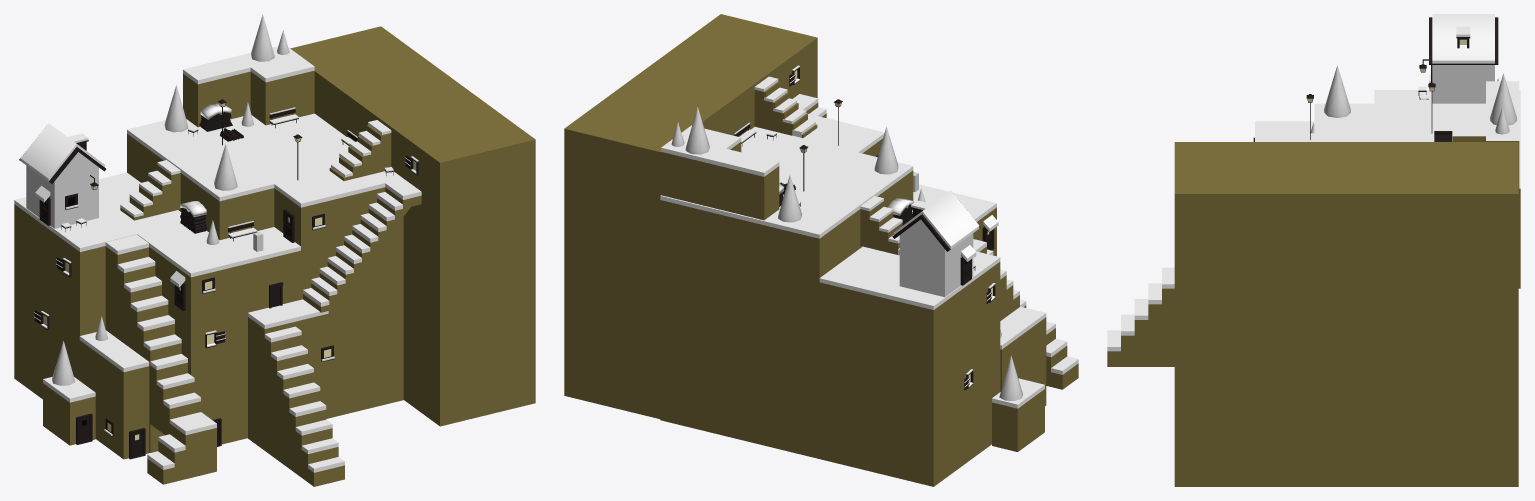
The picture shows the model from 3 angles, left to right: view 1: azimuth 30°, elevation 25°; view 2: azimuth 150°, elevation 25°; view 3: azimuth 270°, elevation 25°; orthographic projection. The views are drawn at different scales.
Visible parts, largest first — view 1: Box011, Box007, snow001, LTypeStair001, snow, StraightStair001, Box006, Box010, snow007, snow008, Box013, snow009 (+14 smaller); view 2: Box007, Box011, snow001, Box010, snow, Box013, Box004, snow002, Box006, snow019, LTypeStair001, Box008 (+11 smaller); view 3: Box011, snow001, StraightStair001, snow019, Box013, snow002, snow008, snow, tree_big001, tree_big004, roof.
Boxes of the visible parts, x1=… form: Box011: x1=290, y1=26, x2=535, y2=426; Box007: x1=14, y1=134, x2=403, y2=444; snow001: x1=127, y1=113, x2=402, y2=207; LTypeStair001: x1=105, y1=246, x2=216, y2=484; snow: x1=14, y1=172, x2=300, y2=277; StraightStair001: x1=248, y1=313, x2=344, y2=486; Box006: x1=79, y1=340, x2=149, y2=459; Box010: x1=183, y1=70, x2=314, y2=127; snow007: x1=105, y1=234, x2=216, y2=469; snow008: x1=248, y1=299, x2=344, y2=472; Box013: x1=26, y1=152, x2=98, y2=228; snow009: x1=303, y1=178, x2=421, y2=306; Box007: x1=660, y1=138, x2=1000, y2=486; Box011: x1=564, y1=14, x2=817, y2=418; snow001: x1=660, y1=113, x2=913, y2=238; Box010: x1=661, y1=142, x2=779, y2=220; snow: x1=819, y1=184, x2=1000, y2=309; Box013: x1=899, y1=219, x2=973, y2=297; Box004: x1=992, y1=389, x2=1044, y2=451; snow002: x1=661, y1=125, x2=779, y2=176; Box006: x1=1000, y1=317, x2=1046, y2=405; snow019: x1=893, y1=190, x2=979, y2=248; LTypeStair001: x1=979, y1=246, x2=1078, y2=389; Box008: x1=860, y1=201, x2=902, y2=254; Box011: x1=1174, y1=142, x2=1518, y2=486; snow001: x1=1255, y1=103, x2=1520, y2=188; StraightStair001: x1=1107, y1=288, x2=1174, y2=366; snow019: x1=1432, y1=14, x2=1494, y2=63; Box013: x1=1432, y1=65, x2=1494, y2=103; snow002: x1=1452, y1=81, x2=1519, y2=136; snow008: x1=1107, y1=267, x2=1174, y2=351; snow: x1=1255, y1=90, x2=1520, y2=133; tree_big001: x1=1324, y1=65, x2=1350, y2=117; tree_big004: x1=1490, y1=73, x2=1516, y2=125; roof: x1=1429, y1=17, x2=1498, y2=64.
Bounding box in the file's own units: 3065 × 2321 × 2515.
